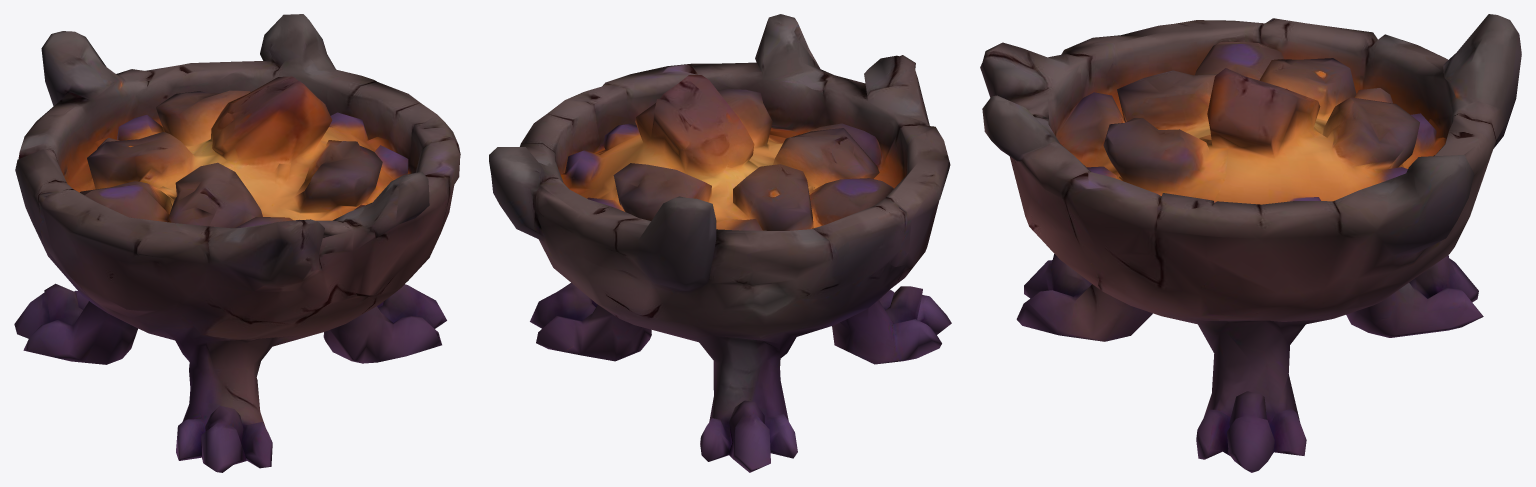
Rendered from brazier.glb.
The picture shows the model from 3 angles, left to right: view 1: azimuth 30°, elevation 25°; view 2: azimuth 150°, elevation 25°; view 3: azimuth 270°, elevation 25°; orthographic projection. The views are drawn at different scales.
Parts seen in each view (by area): view 1: tripo_node_248edec4-3127-4ab2-8654-10b250c42985; view 2: tripo_node_248edec4-3127-4ab2-8654-10b250c42985; view 3: tripo_node_248edec4-3127-4ab2-8654-10b250c42985.
Boxes of the visible parts, left/top/right/bottom form: tripo_node_248edec4-3127-4ab2-8654-10b250c42985: left=14, top=14, right=460, bottom=472; tripo_node_248edec4-3127-4ab2-8654-10b250c42985: left=489, top=14, right=951, bottom=472; tripo_node_248edec4-3127-4ab2-8654-10b250c42985: left=980, top=14, right=1521, bottom=472.
Size of the model in its own units: 0.9408 by 0.654 by 1.
Materials: 1 (1 with a texture image).
